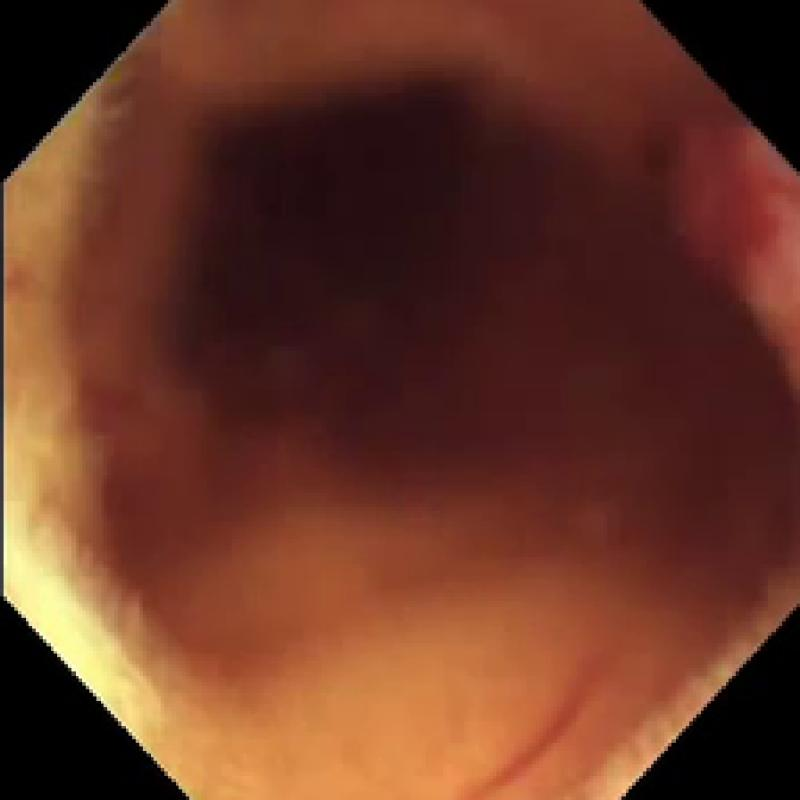bleeding: (661, 118, 793, 296)
